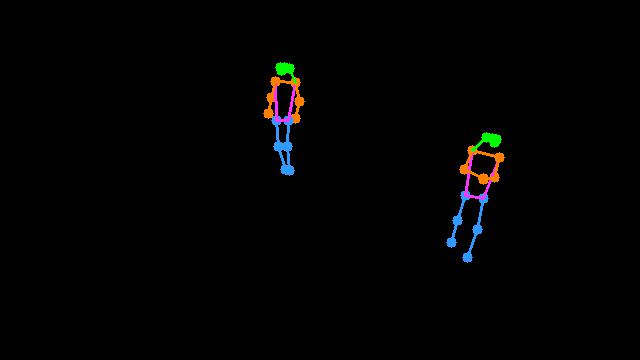normal: (433, 113, 524, 275), (252, 42, 326, 195)
